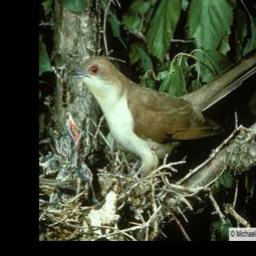Cuckoo: (65, 25, 256, 174)
